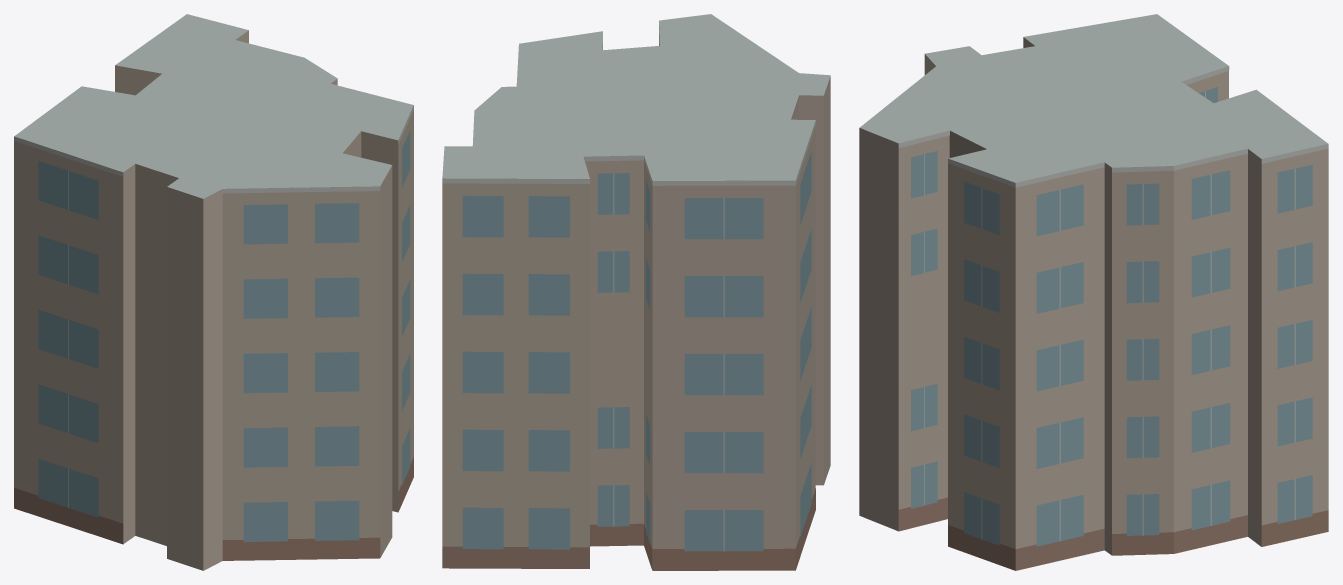
File: survey-upis-33036441.glb
The picture shows the model from 3 angles, left to right: view 1: azimuth 30°, elevation 25°; view 2: azimuth 150°, elevation 25°; view 3: azimuth 270°, elevation 25°; orthographic projection. The views are drawn at different scales.
Parts seen in each view (by area): view 1: survey-upis-33036441.tmp; view 2: survey-upis-33036441.tmp; view 3: survey-upis-33036441.tmp.
Part boxes in pixels (left/top/right/bottom): survey-upis-33036441.tmp: left=14, top=14, right=413, bottom=570; survey-upis-33036441.tmp: left=442, top=14, right=830, bottom=570; survey-upis-33036441.tmp: left=859, top=14, right=1328, bottom=570.
Size of the model in its own units: 18.26 by 19.55 by 21.43.
